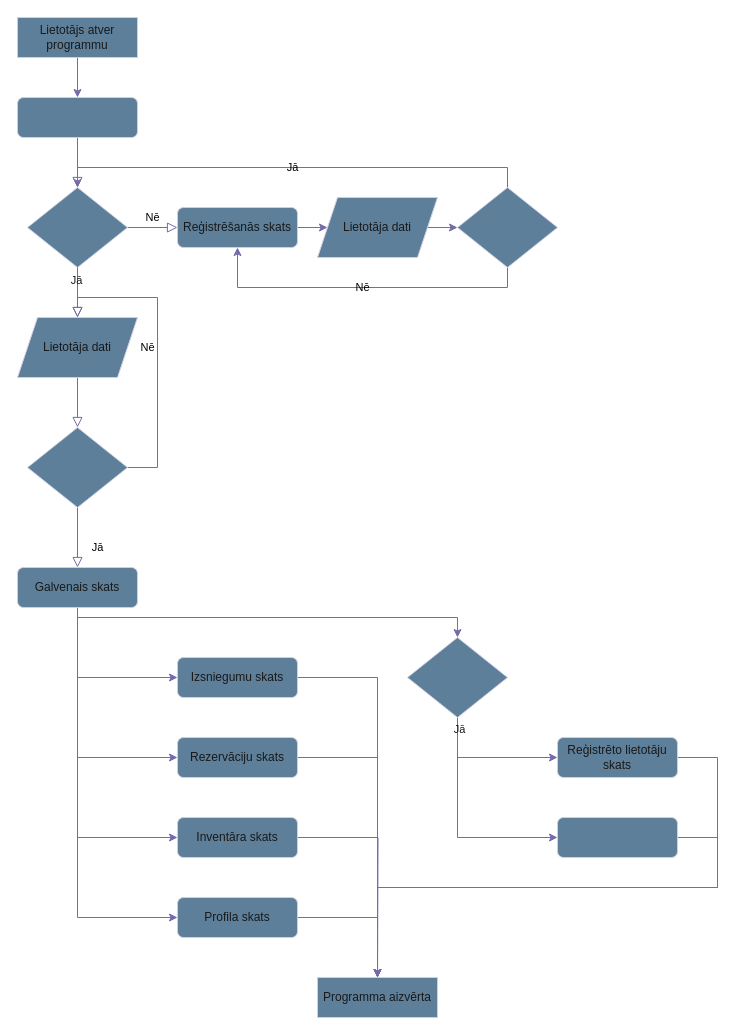
This 743x1035 diagram has some shape labels left out. Each missing label, with the box of its shape:
Autorizēšanas skats: (16, 96, 138, 138)
Inventāra rediģēšanas skats: (556, 816, 678, 858)
Izveidots konts sistēmā?: (26, 186, 128, 268)
Lietotāja dati pareizi?: (26, 426, 128, 508)
Lietotājs ir administrators?: (406, 636, 508, 718)
Reģistrācija veiksmīgi pabeigta: (456, 186, 558, 268)
